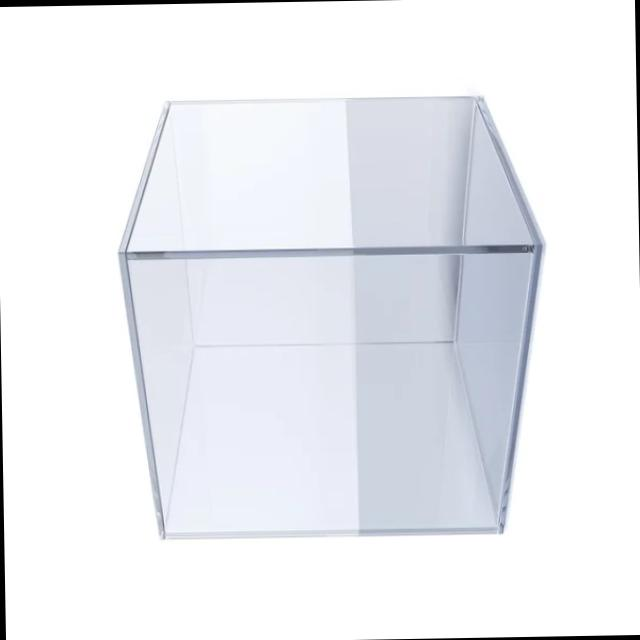glass: (97, 69, 583, 552)
